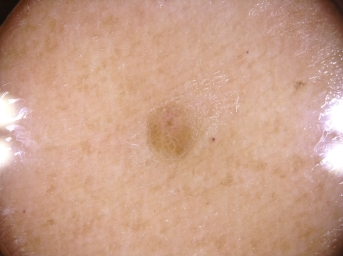seborrheic keratosis: (126, 73, 221, 175)
